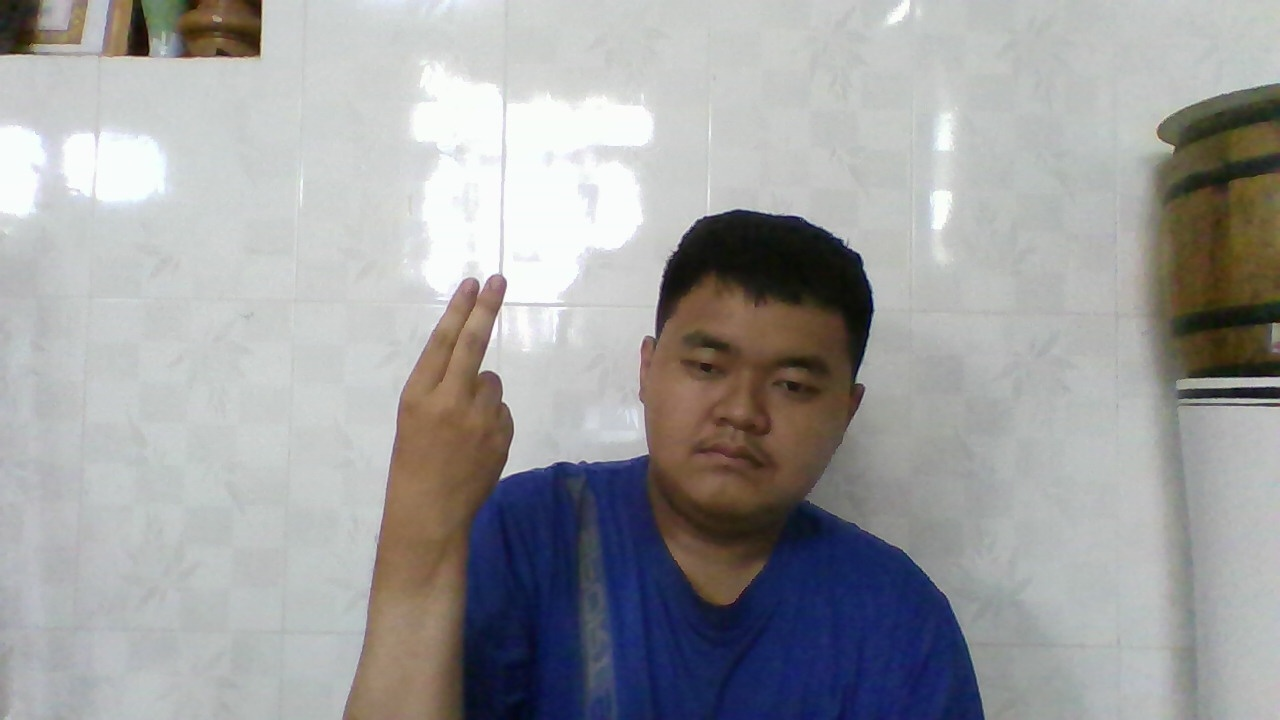U: (384, 263, 520, 538)
